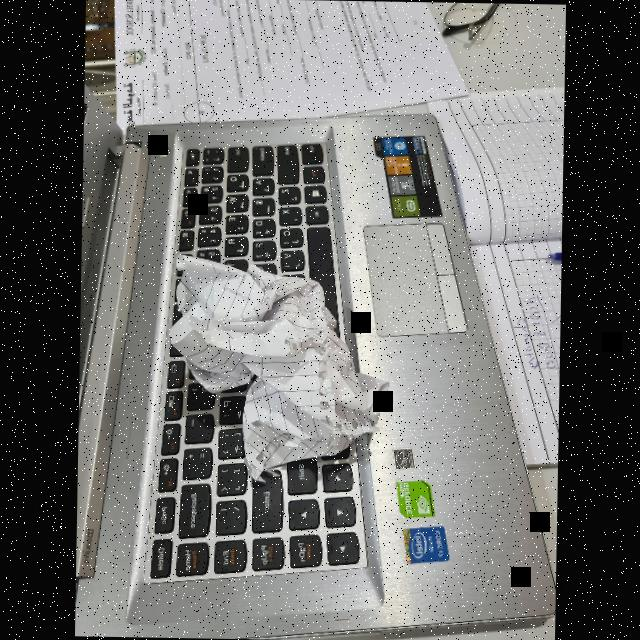scrap_paper: (162, 258, 391, 466)
